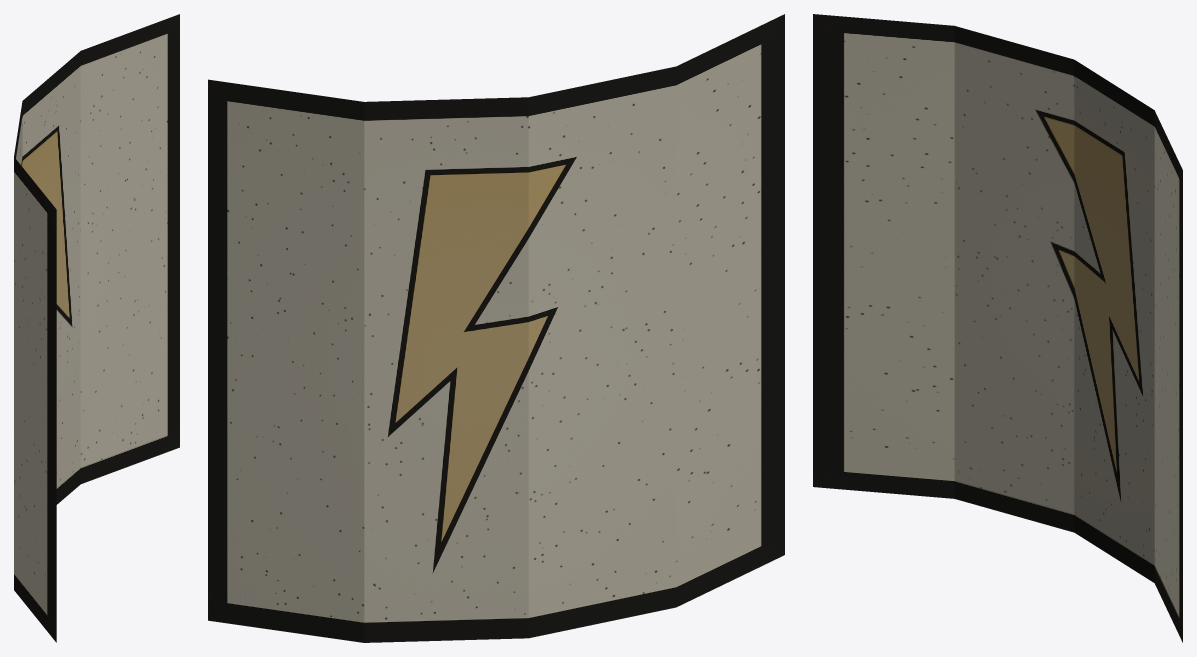
The model's file is eletric_(pole)_(transformer)_lighting_poster_0_lev3.glb.
3 renders of one model, left to right at view 1: azimuth 30°, elevation 25°; view 2: azimuth 150°, elevation 25°; view 3: azimuth 270°, elevation 25°, orthographic. The views are drawn at different scales.
Parts seen in each view (by area): view 1: eletric_(pole)_(transformer)_lighting_poster_0_lev3; view 2: eletric_(pole)_(transformer)_lighting_poster_0_lev3; view 3: eletric_(pole)_(transformer)_lighting_poster_0_lev3.
Boxes of the visible parts, x1,y1,x2,y2 form: eletric_(pole)_(transformer)_lighting_poster_0_lev3: [14, 14, 179, 642]; eletric_(pole)_(transformer)_lighting_poster_0_lev3: [208, 14, 784, 642]; eletric_(pole)_(transformer)_lighting_poster_0_lev3: [813, 14, 1182, 642].
Bounding box in the file's own units: 0.2098 × 0.2968 × 0.2102.
1 material, 1 textured.
